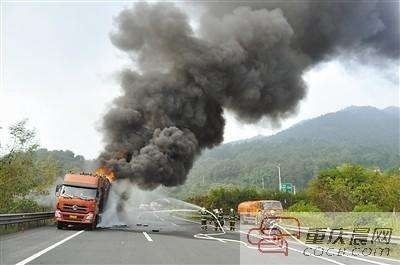fire: (92, 151, 122, 182)
